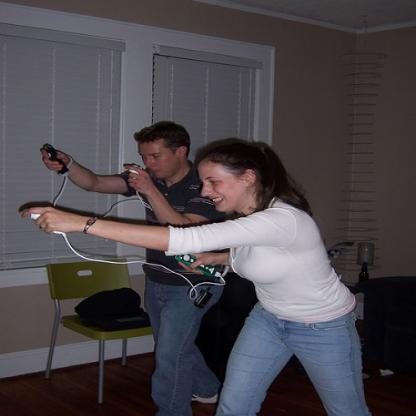handbag: (75, 286, 151, 331)
